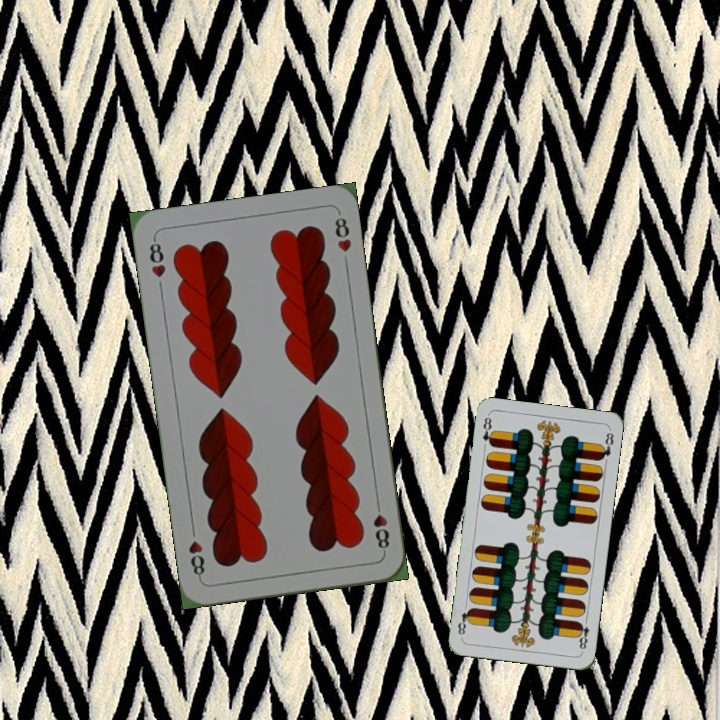E8: (573, 614, 592, 654), (478, 413, 497, 449)
H8: (369, 497, 392, 556), (145, 234, 169, 280)
